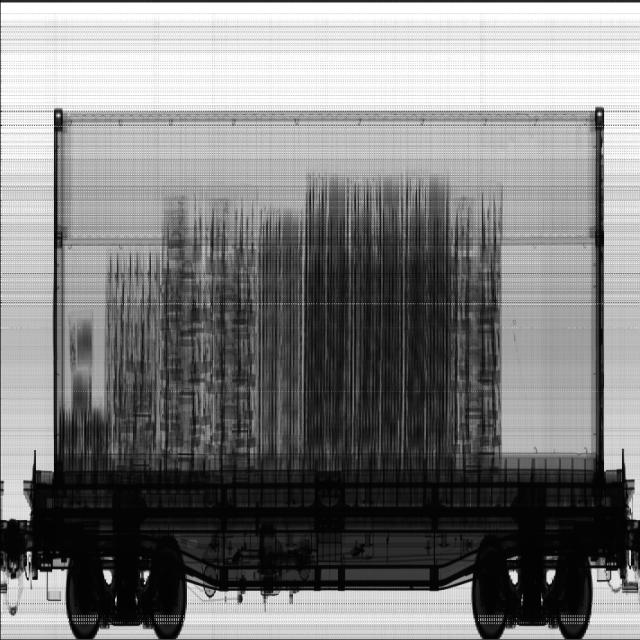auto parts: (108, 186, 255, 466)
